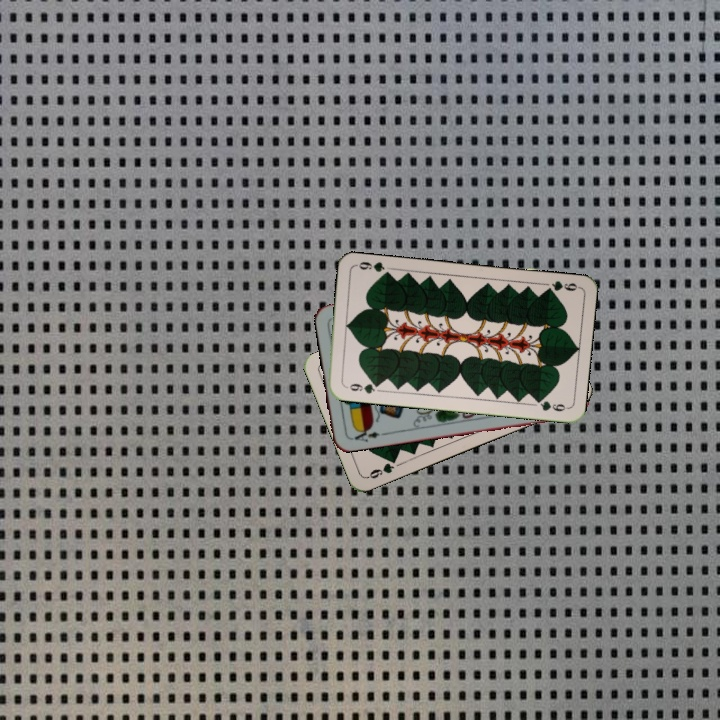EA: (351, 424, 387, 444)
G9: (363, 454, 399, 481), (540, 276, 581, 295), (341, 379, 382, 396)
